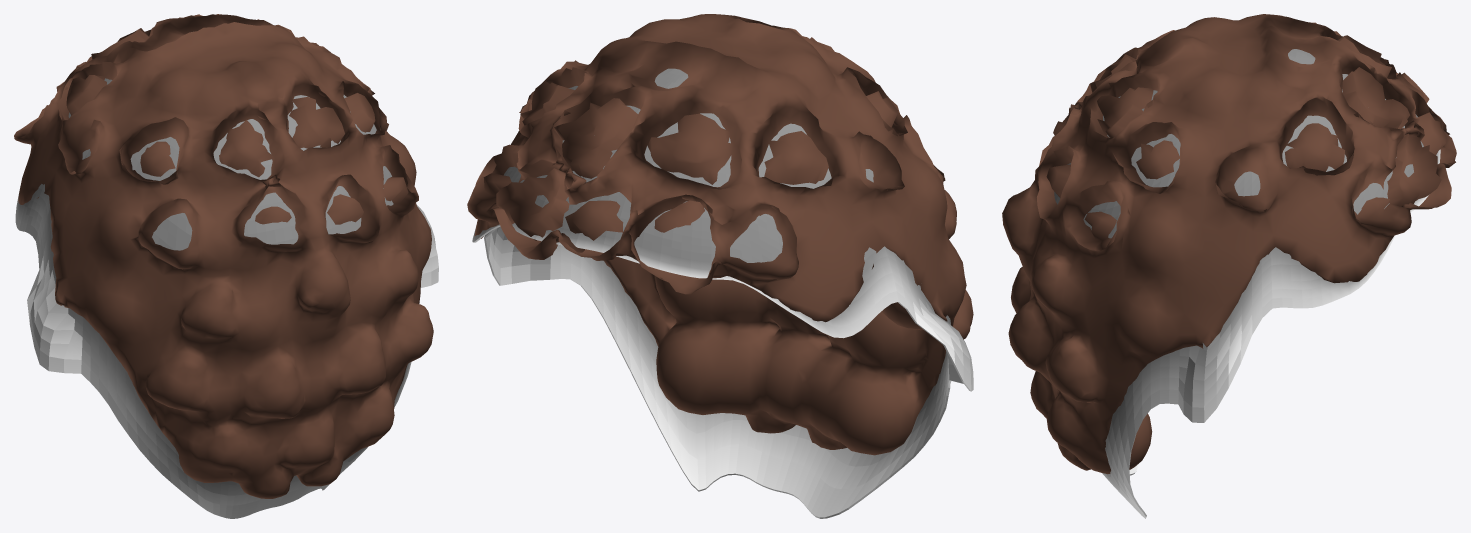
Rendered from hair_curly_m.glb.
3 views of the same model, side by side, from view 1: azimuth 30°, elevation 25°; view 2: azimuth 150°, elevation 25°; view 3: azimuth 270°, elevation 25° (orthographic). The views are drawn at different scales.
Parts seen in each view (by area): view 1: Acc_hair_curly_HairCurly, Acc_hair_curly_HairFade; view 2: Acc_hair_curly_HairCurly, Acc_hair_curly_HairFade; view 3: Acc_hair_curly_HairCurly, Acc_hair_curly_HairFade.
Boxes of the visible parts, <box> form: Acc_hair_curly_HairCurly: <box>14,14,433,498</box>; Acc_hair_curly_HairFade: <box>15,78,438,518</box>; Acc_hair_curly_HairCurly: <box>467,14,973,455</box>; Acc_hair_curly_HairFade: <box>472,68,973,518</box>; Acc_hair_curly_HairCurly: <box>1002,14,1456,474</box>; Acc_hair_curly_HairFade: <box>1054,49,1440,518</box>.
Bounding box in the file's own units: 0.3793 × 0.3974 × 0.3573.
